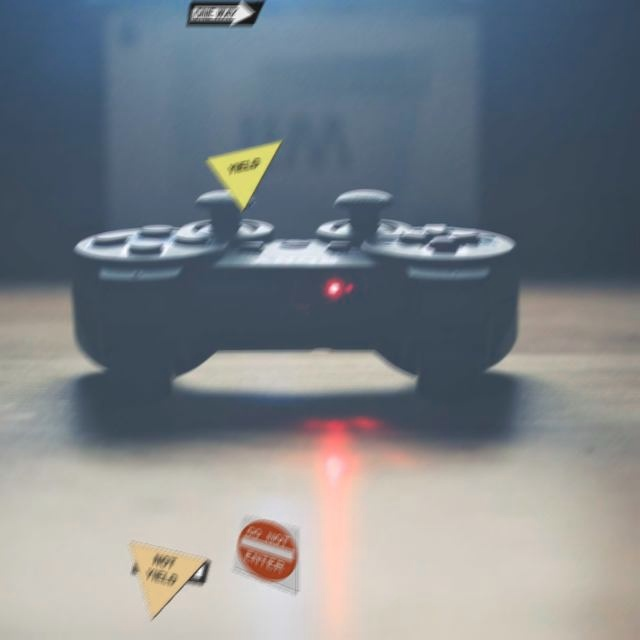DO_NOT_ENTER: (234, 517, 300, 596)
NOT_YIELD: (130, 543, 209, 622)
ONE_WAY_ left: (133, 551, 212, 587)
ONE_WAY_ right: (188, 2, 267, 28)
YIELD: (206, 142, 285, 214)
